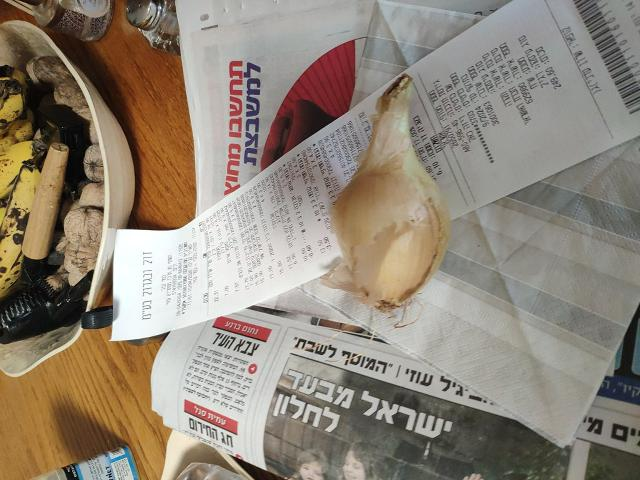onion: (330, 144, 442, 295)
